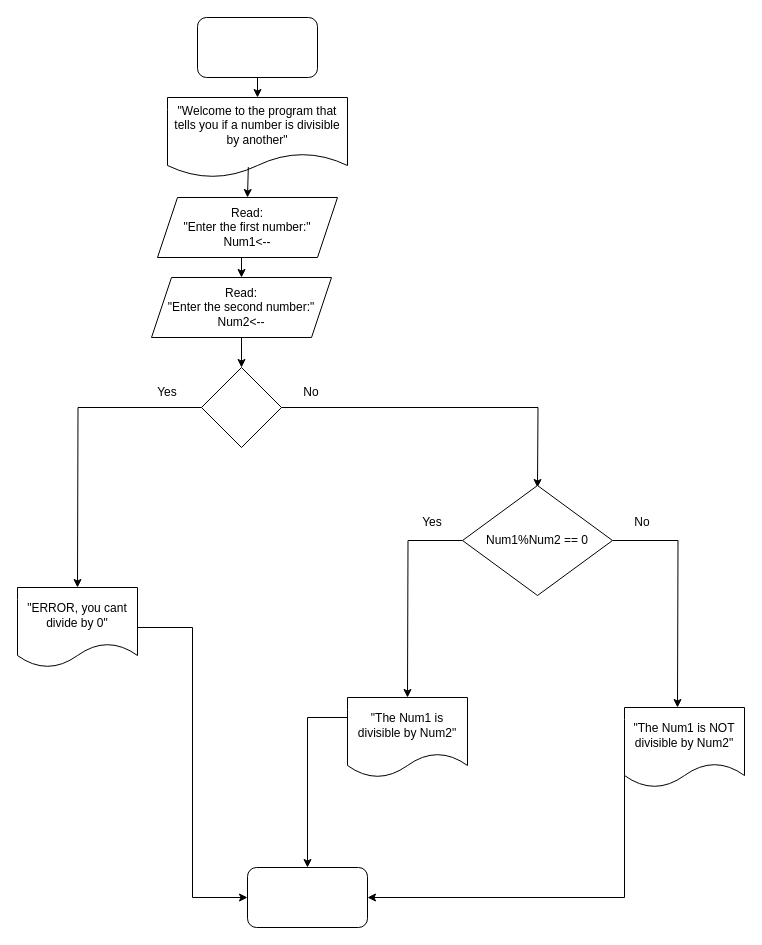
This 762x945 diagram has some shape labels left out. Each missing label, with the centre of its shape:
End: point 307,897
Num2 == 0: point 241,407
Start: point 257,47
